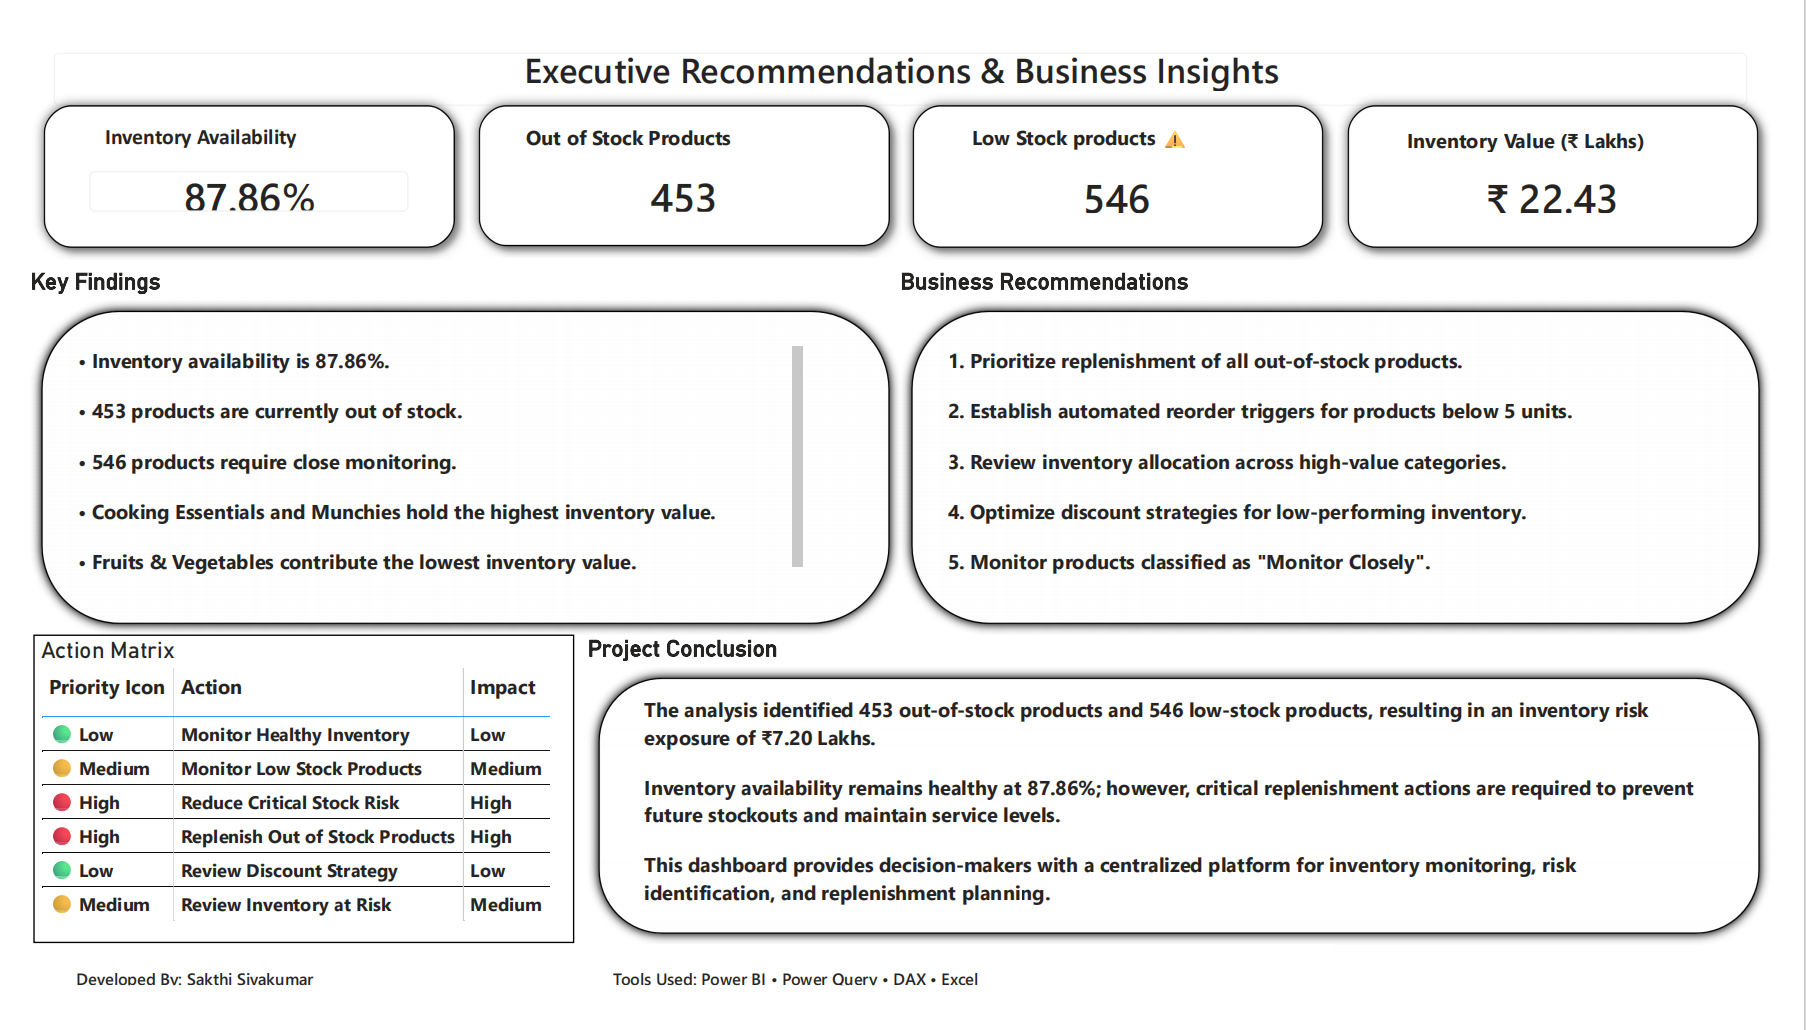

The dashboard page shown, as its layout file describes it:
{"tool":"powerbi","page":{"name":"Executive Recommendations & Business Insights","canvas":[1280,720],"ordinal":3},"visuals":[{"type":"shape","box":[1.1,46.7,320,121.7],"z":0,"group":"g8"},{"type":"shape","box":[320.7,46.7,320,121],"z":0,"group":"g9"},{"type":"shape","box":[640.4,46.7,319.7,122],"z":0,"group":"g10"},{"type":"shape","box":[960,46.7,320,122],"z":0,"group":"g11"},{"type":"shape","title":"Key Findings","box":[0,175,640,270],"z":0,"group":"g5"},{"type":"shape","title":"Business Recommendations","box":[640,175,640,270],"z":0,"group":"g6"},{"type":"shape","title":"Project Conclusion","box":[410,445,870,228.3],"z":0,"group":"g7"},{"type":"cardVisual","fields":{"Data":["Action Matrix.Bottom Line"]},"box":[5,673.3,556.7,46.7],"z":0},{"type":"cardVisual","fields":{"Data":["Working.Page Title 4"]},"box":[0,0,1280,72.9],"z":1000},{"type":"group","id":"g1","title":"Group 12","box":[1.1,46.7,320,121.7],"z":2000},{"type":"group","id":"g2","title":"Group 12","box":[320.7,46.7,320,121.7],"z":3000},{"type":"group","id":"g3","title":"Group 12","box":[640.4,46.7,320,121.7],"z":4000},{"type":"group","id":"g4","title":"Group 12","box":[960,46.7,320,121.7],"z":5000},{"type":"textbox","box":[49.6,68.7,185.2,39.2],"z":5000,"group":"g8"},{"type":"textbox","box":[688.9,68.7,185,39.4],"z":5000,"group":"g10"},{"type":"textbox","box":[359.6,68.9,221.5,40],"z":5000,"group":"g9"},{"type":"textbox","box":[1007.9,71.2,222.7,37],"z":5000,"group":"g11"},{"type":"group","id":"g5","title":"Group 1","box":[0,175,640,270],"z":6000},{"type":"textbox","box":[446.7,485,795,171.7],"z":6000,"group":"g7"},{"type":"textbox","box":[30,228.3,543.3,191.7],"z":6500,"group":"g5"},{"type":"textbox","box":[670,228.3,543.3,191.7],"z":6500,"group":"g6"},{"type":"group","id":"g6","title":"Group 1","box":[640,175,640,270],"z":7000},{"type":"group","id":"g7","title":"Group 2","box":[410,445,870,228.3],"z":8000},{"type":"tableEx","title":"Action Matrix","fields":{"Values":["Action Matrix.Priority Icon","Action Matrix.Action","Action Matrix.Impact"]},"box":[1.7,445,398.3,226.7],"z":9000},{"type":"cardVisual","fields":{"Data":["Action Matrix.Bottom Line 2"]},"box":[400,673.3,556.7,46.7],"z":9001},{"type":"group","id":"g8","title":"Group 7","box":[1.1,46.7,320,121.7],"z":10000,"group":"g1"},{"type":"group","id":"g9","title":"Group 7","box":[320.7,46.7,320,121],"z":10000,"group":"g2"},{"type":"group","id":"g10","title":"Group 7","box":[640.4,46.7,319.7,122],"z":10000,"group":"g3"},{"type":"group","id":"g11","title":"Group 7","box":[960,46.7,320,122],"z":10000,"group":"g4"},{"type":"cardVisual","fields":{"Data":["Working.Inventory Availability %"]},"box":[26.2,87.1,268.9,63.6],"z":12003,"group":"g1"},{"type":"cardVisual","fields":{"Data":["Working.Out Of Stock Products"]},"box":[370.1,89.6,221.2,61.2],"z":12003,"group":"g2"},{"type":"cardVisual","fields":{"Data":["Working.Low Stock Count"]},"box":[689.8,90,221,61.7],"z":12003,"group":"g3"},{"type":"cardVisual","fields":{"Data":["Working.Inventory Value (Lakh)"]},"box":[1009.4,90,221.2,61.7],"z":12003,"group":"g4"}]}

Visuals, with their boxes in screenshot pixels (x1, y1, x2, y2), scaled from the page's 1280x720 canvas onto the 1806x1030 screenshot:
shape: {"left": 2, "top": 67, "right": 453, "bottom": 241}
shape: {"left": 452, "top": 67, "right": 904, "bottom": 240}
shape: {"left": 904, "top": 67, "right": 1355, "bottom": 241}
shape: {"left": 1354, "top": 67, "right": 1805, "bottom": 241}
"Key Findings" shape: {"left": 0, "top": 250, "right": 903, "bottom": 637}
"Business Recommendations" shape: {"left": 903, "top": 250, "right": 1805, "bottom": 637}
"Project Conclusion" shape: {"left": 578, "top": 637, "right": 1805, "bottom": 963}
cardVisual - Action Matrix.Bottom Line: {"left": 7, "top": 963, "right": 793, "bottom": 1029}
cardVisual - Working.Page Title 4: {"left": 0, "top": 0, "right": 1805, "bottom": 104}
"Group 12" group: {"left": 2, "top": 67, "right": 453, "bottom": 241}
"Group 12" group: {"left": 452, "top": 67, "right": 904, "bottom": 241}
"Group 12" group: {"left": 904, "top": 67, "right": 1355, "bottom": 241}
"Group 12" group: {"left": 1354, "top": 67, "right": 1805, "bottom": 241}
textbox: {"left": 70, "top": 98, "right": 331, "bottom": 154}
textbox: {"left": 972, "top": 98, "right": 1233, "bottom": 155}
textbox: {"left": 507, "top": 99, "right": 820, "bottom": 156}
textbox: {"left": 1422, "top": 102, "right": 1736, "bottom": 155}
"Group 1" group: {"left": 0, "top": 250, "right": 903, "bottom": 637}
textbox: {"left": 630, "top": 694, "right": 1752, "bottom": 939}
textbox: {"left": 42, "top": 327, "right": 809, "bottom": 601}
textbox: {"left": 945, "top": 327, "right": 1712, "bottom": 601}
"Group 1" group: {"left": 903, "top": 250, "right": 1805, "bottom": 637}
"Group 2" group: {"left": 578, "top": 637, "right": 1805, "bottom": 963}
"Action Matrix" tableEx: {"left": 2, "top": 637, "right": 564, "bottom": 961}
cardVisual - Action Matrix.Bottom Line 2: {"left": 564, "top": 963, "right": 1350, "bottom": 1029}
"Group 7" group: {"left": 2, "top": 67, "right": 453, "bottom": 241}
"Group 7" group: {"left": 452, "top": 67, "right": 904, "bottom": 240}
"Group 7" group: {"left": 904, "top": 67, "right": 1355, "bottom": 241}
"Group 7" group: {"left": 1354, "top": 67, "right": 1805, "bottom": 241}
cardVisual - Working.Inventory Availability %: {"left": 37, "top": 125, "right": 416, "bottom": 216}
cardVisual - Working.Out Of Stock Products: {"left": 522, "top": 128, "right": 834, "bottom": 216}
cardVisual - Working.Low Stock Count: {"left": 973, "top": 129, "right": 1285, "bottom": 217}
cardVisual - Working.Inventory Value (Lakh): {"left": 1424, "top": 129, "right": 1736, "bottom": 217}
